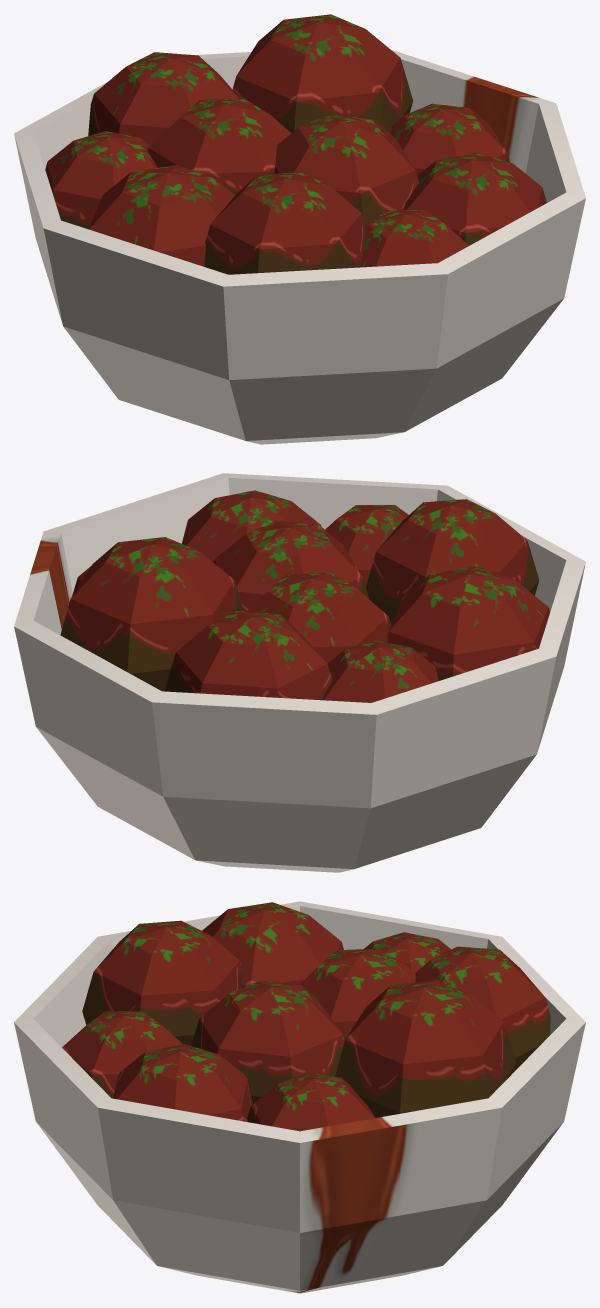
The model's file is Meatball Tower Bowl.fbx.
The picture shows the model from 3 angles, top to bottom: view 1: azimuth 30°, elevation 25°; view 2: azimuth 150°, elevation 25°; view 3: azimuth 270°, elevation 25°; orthographic projection. The views are drawn at different scales.
Visible parts, largest first — view 1: polySurface708; view 2: polySurface708; view 3: polySurface708.
Part boxes in pixels (bbox=[...]): polySurface708: bbox=[14, 14, 585, 444]; polySurface708: bbox=[14, 473, 585, 872]; polySurface708: bbox=[14, 901, 585, 1293].
Size of the model in its own units: 342 by 187 by 342.
